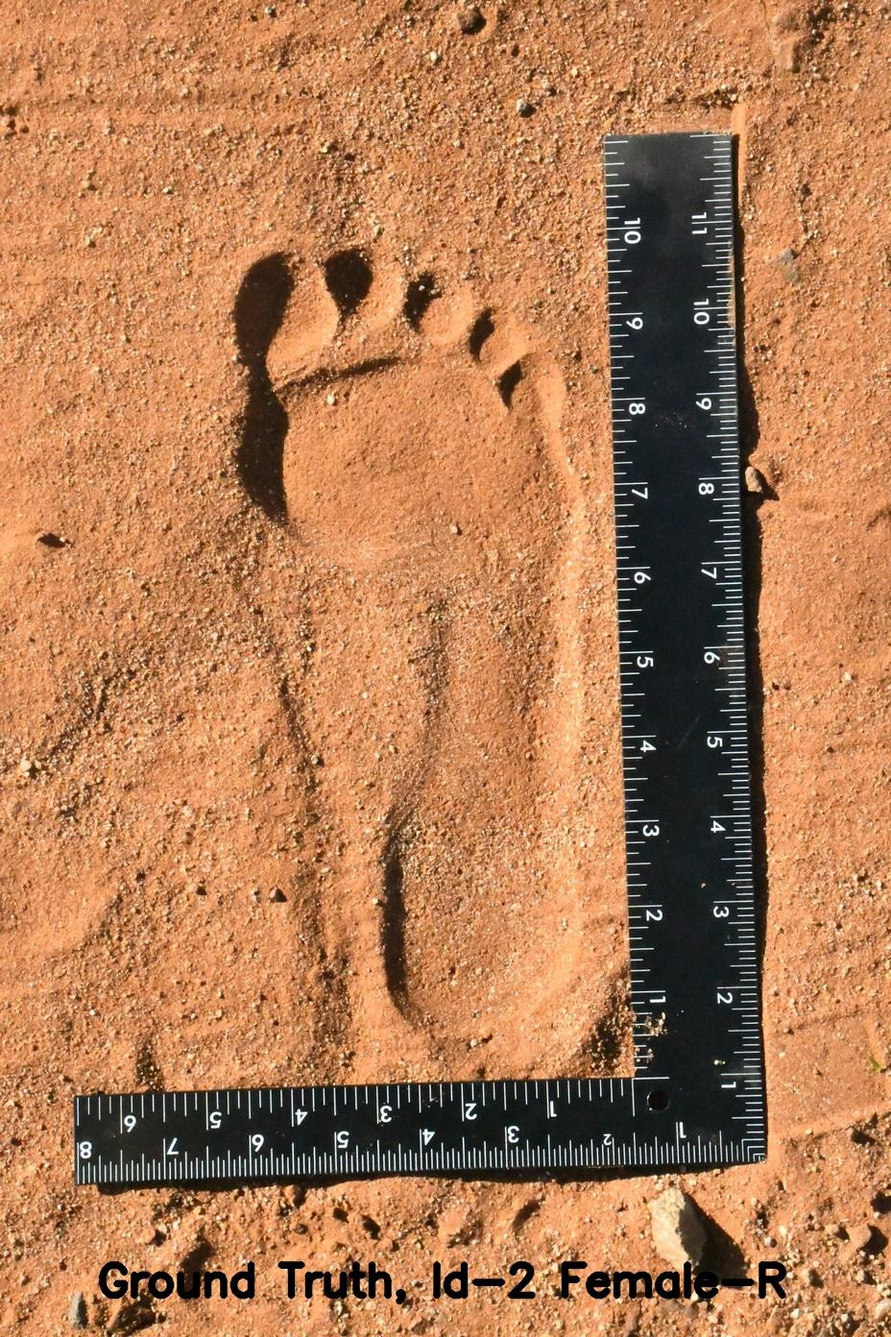human_footprint: (177, 199, 624, 1063)
